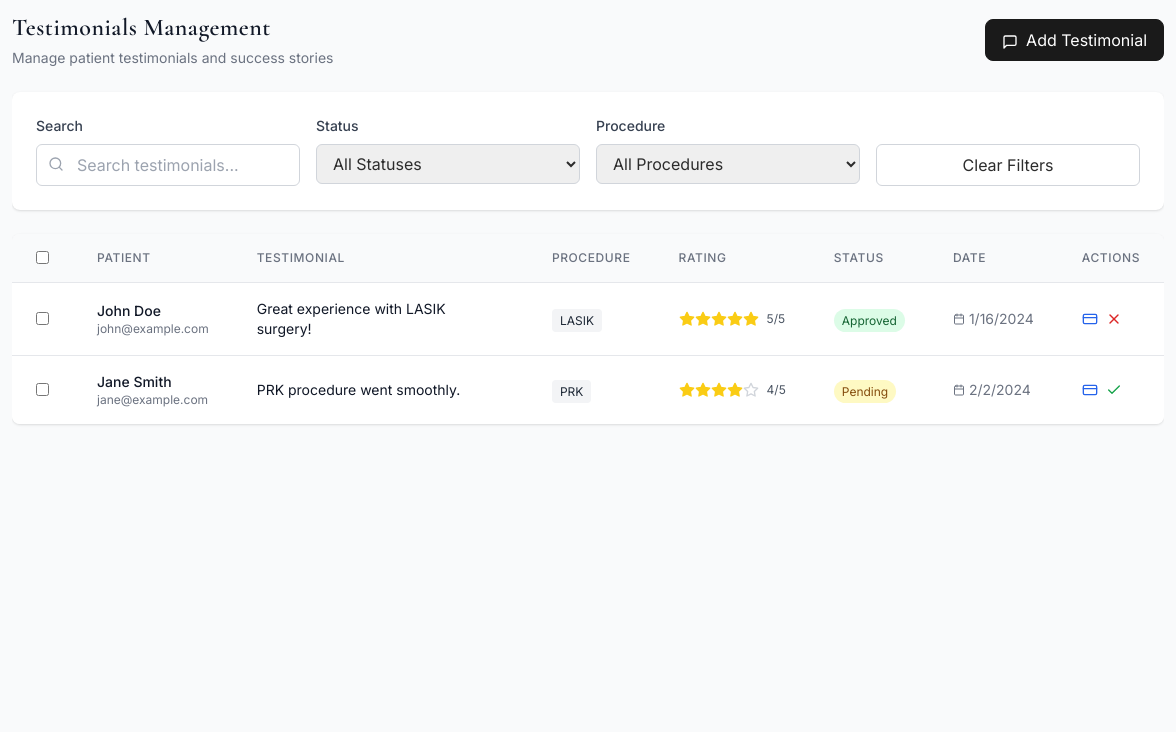
Test: TestimonialsManager › should clear selection
Expected: the text "John Doe" is shown, left=97, top=302, right=161, bottom=319
Click the checkbox next to "John Doe" at {"x": 42, "y": 318}, box left=36, top=312, right=49, bottom=325
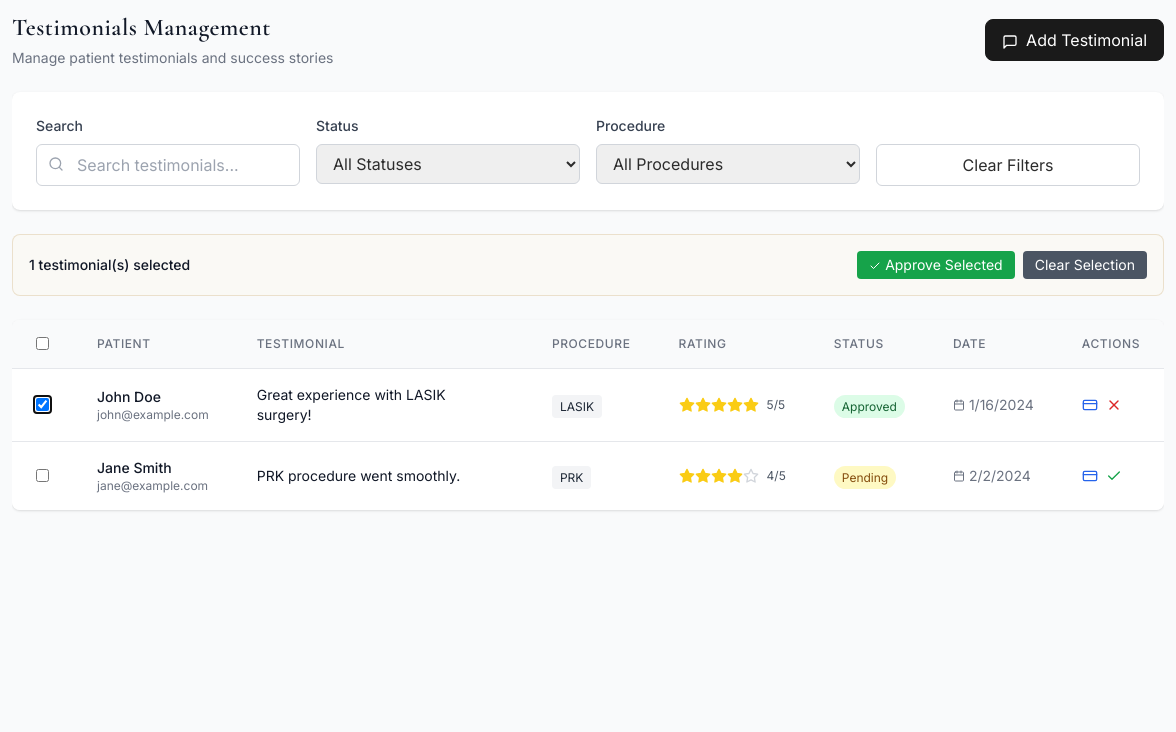
Expected: the text "1 testimonial(s) selected" is shown, left=29, top=255, right=190, bottom=275
Click the button "Clear Selection" at {"x": 1085, "y": 265}, box left=1023, top=251, right=1147, bottom=279
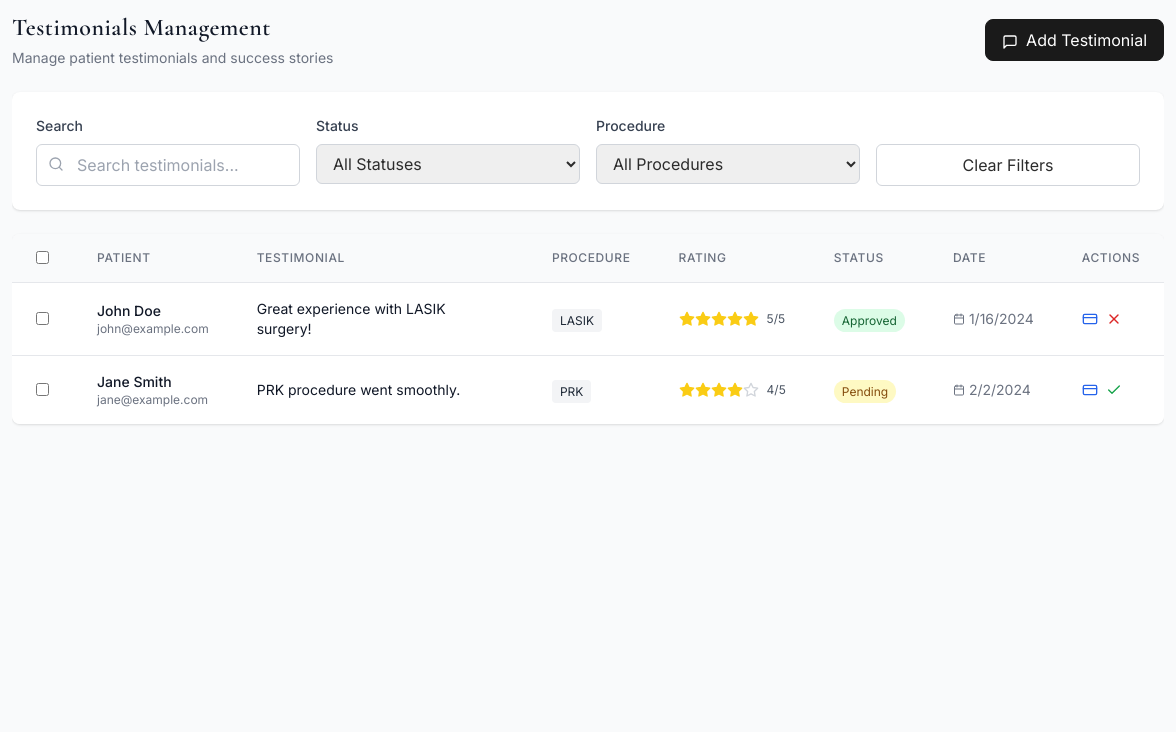
Expected: the text "1 testimonial(s) selected" is gone
